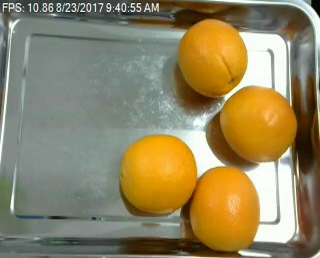Orange: (118, 135, 197, 214), (220, 84, 298, 164), (188, 166, 259, 250), (176, 16, 247, 97)
